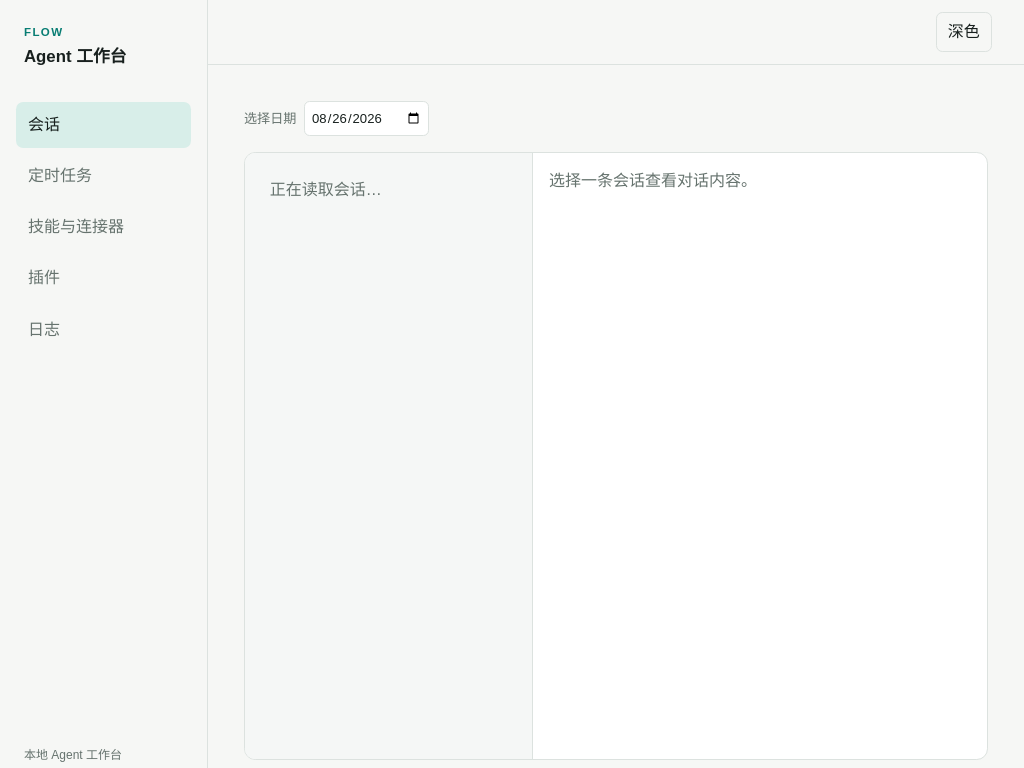
Test: OverviewPage › 不同内部会话键格式不能产生重复投递目标
The width and height of the screenshot is (1024, 768).
Click the button "定时任务" at [104, 176], box left=16, top=153, right=191, bottom=199
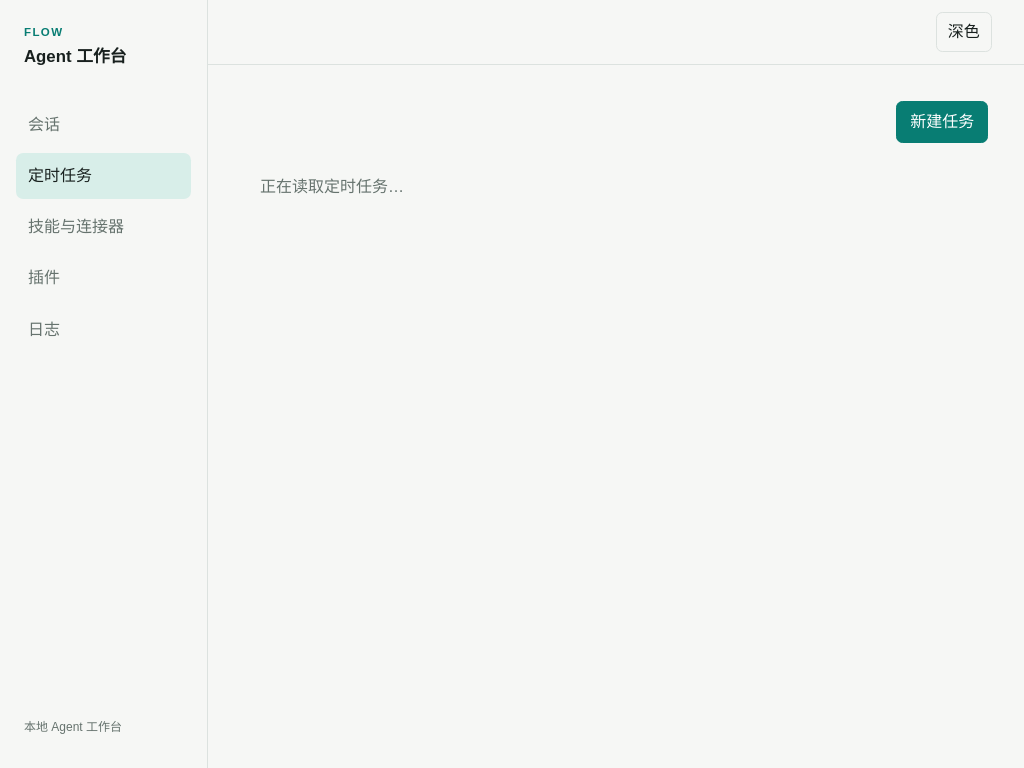
Click the button "新建任务" at [942, 122], box left=896, top=101, right=988, bottom=143
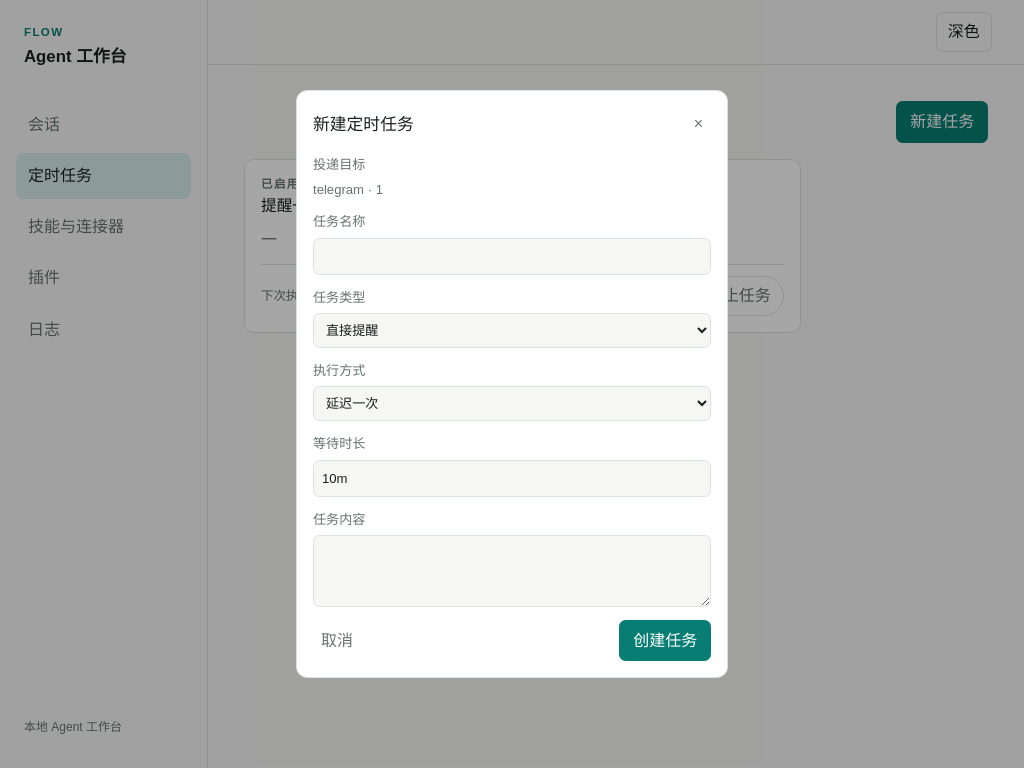
Check: the text "telegram · 1" is shown once, box left=313, top=182, right=383, bottom=197
